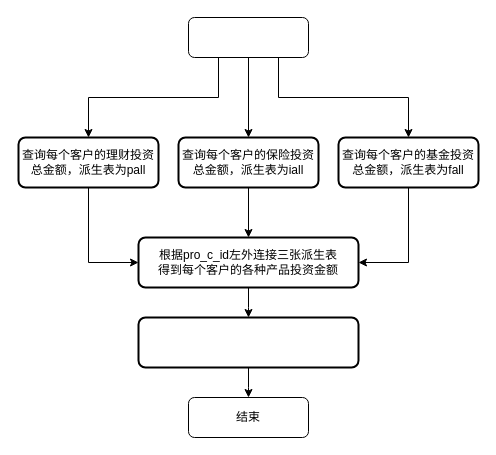
The diagram is 496 pixels wide and 455 high, and some of its shapes have lost their labels. Here are the shapes that lost their labels. From the top down, the centre of each, then its label:
At pixel 248 37: "开始".
At pixel 248 342: "与client表连接查询得到每个客户的投资总金额（某种产品不存在投资时使用COALESCE指定默认值为0）".
